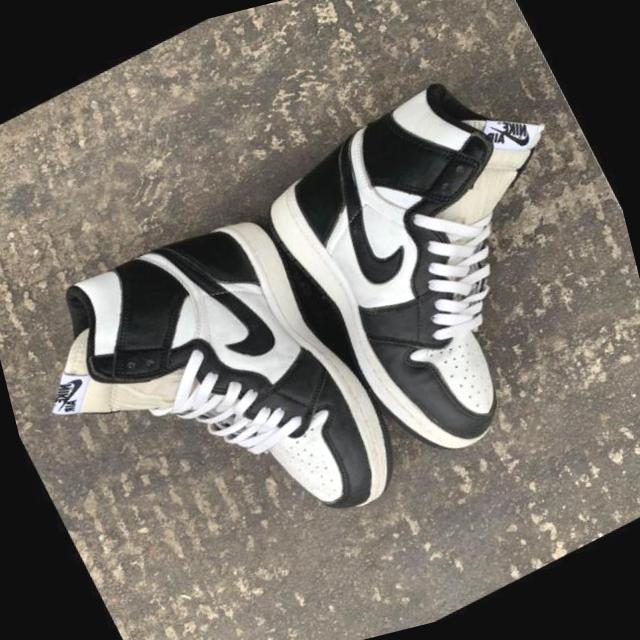nike_fake_jordan: (0, 161, 433, 631), (225, 24, 640, 502)
